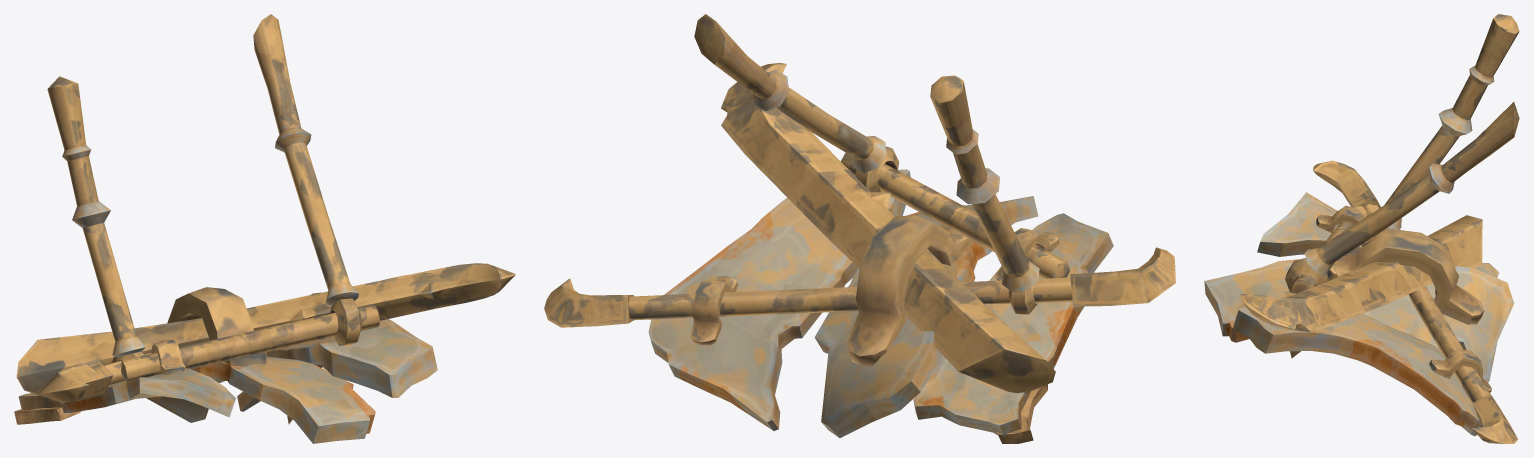
Rendered from HL_Barricade_E_DmgState_02_04.fbx.
3 renders of one model, left to right at view 1: azimuth 30°, elevation 25°; view 2: azimuth 150°, elevation 25°; view 3: azimuth 270°, elevation 25°, orthographic. The views are drawn at different scales.
Visible parts, largest first — view 1: HL_Barricade_E_DmgState_02_04; view 2: HL_Barricade_E_DmgState_02_04; view 3: HL_Barricade_E_DmgState_02_04.
Boxes of the visible parts, x1,y1,x2,y2 form: HL_Barricade_E_DmgState_02_04: (14, 14, 515, 443); HL_Barricade_E_DmgState_02_04: (544, 14, 1175, 443); HL_Barricade_E_DmgState_02_04: (1204, 14, 1519, 443).
Bounding box in the file's own units: 460 × 345 × 290.
